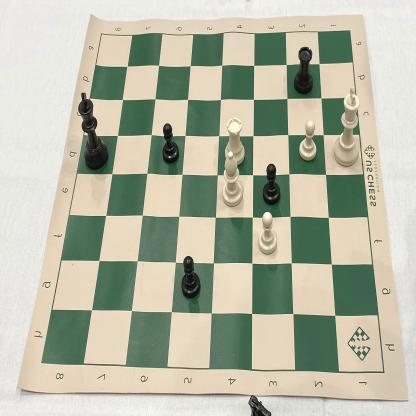black-king: (76, 90, 110, 171)
black-pawn: (178, 252, 203, 304), (261, 161, 283, 208)
black-queen: (162, 118, 180, 168)
black-rook: (291, 44, 317, 97)
white-bishop: (219, 147, 247, 212)
white-king: (330, 81, 364, 172)
white-pawn: (255, 210, 282, 258), (296, 115, 319, 164)
white-rook: (223, 112, 247, 170)
